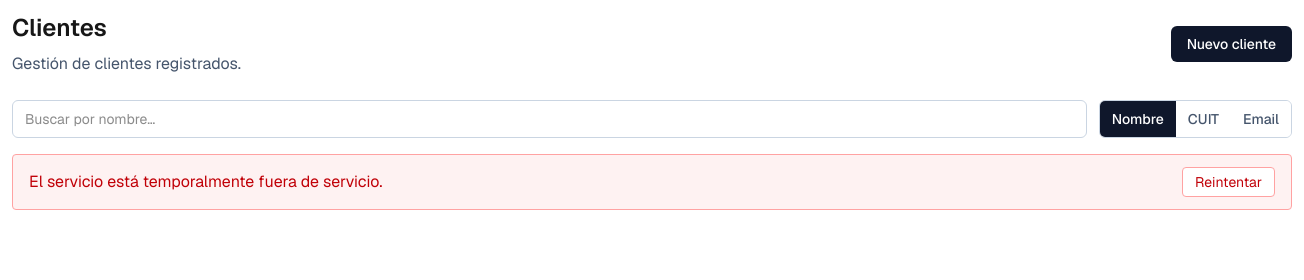
Test case: pantalla de clientes: carga, error y reintento › si falla muestra el error con Reintentar y al reintentar carga los datos
Expected: the message shows "El servicio está temporalmente fuera de servicio.", [29, 171, 383, 192]
Click the button "Reintentar". click: (1229, 182)
box: [1182, 167, 1275, 197]
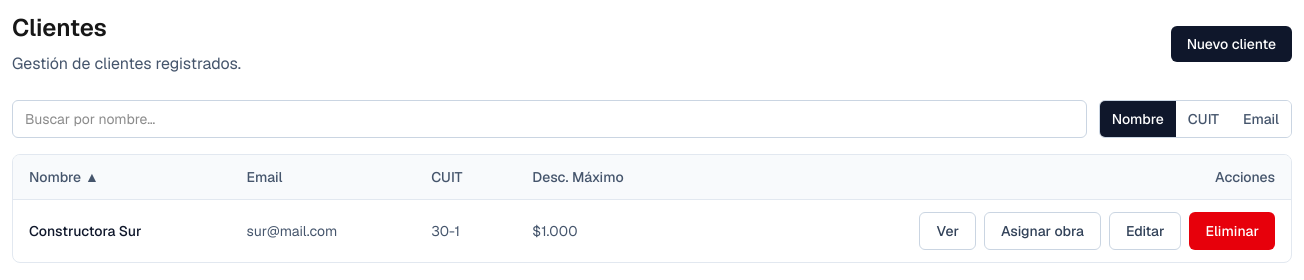
Expected: the text "Constructora Sur" is shown, [13, 200, 230, 262]
Expected: the message "El servicio está temporalmente fuera de servicio. Reintentar" is gone
